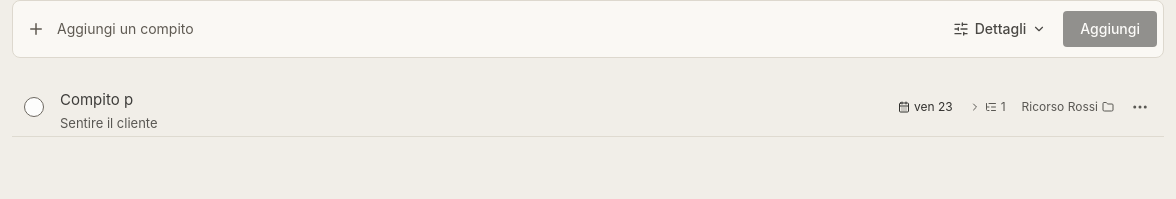
Test: «Oggi» in groups › writes a row on two levels: the description in one line, the day in words, the subtasks' count that opens them
Expected: the text "Sentire il cliente" is shown, [60,115,158,131]
Expected: the text "ven 23" is shown, [898,99,953,115]
Click the button named "1 sottocompito".
click(987, 107)  # box [965,85,1010,129]
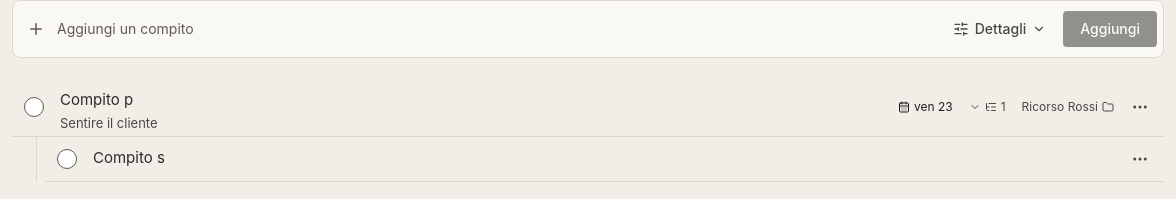
Now the checkbox named "Compito s" is shown, box [45,136,89,180]
